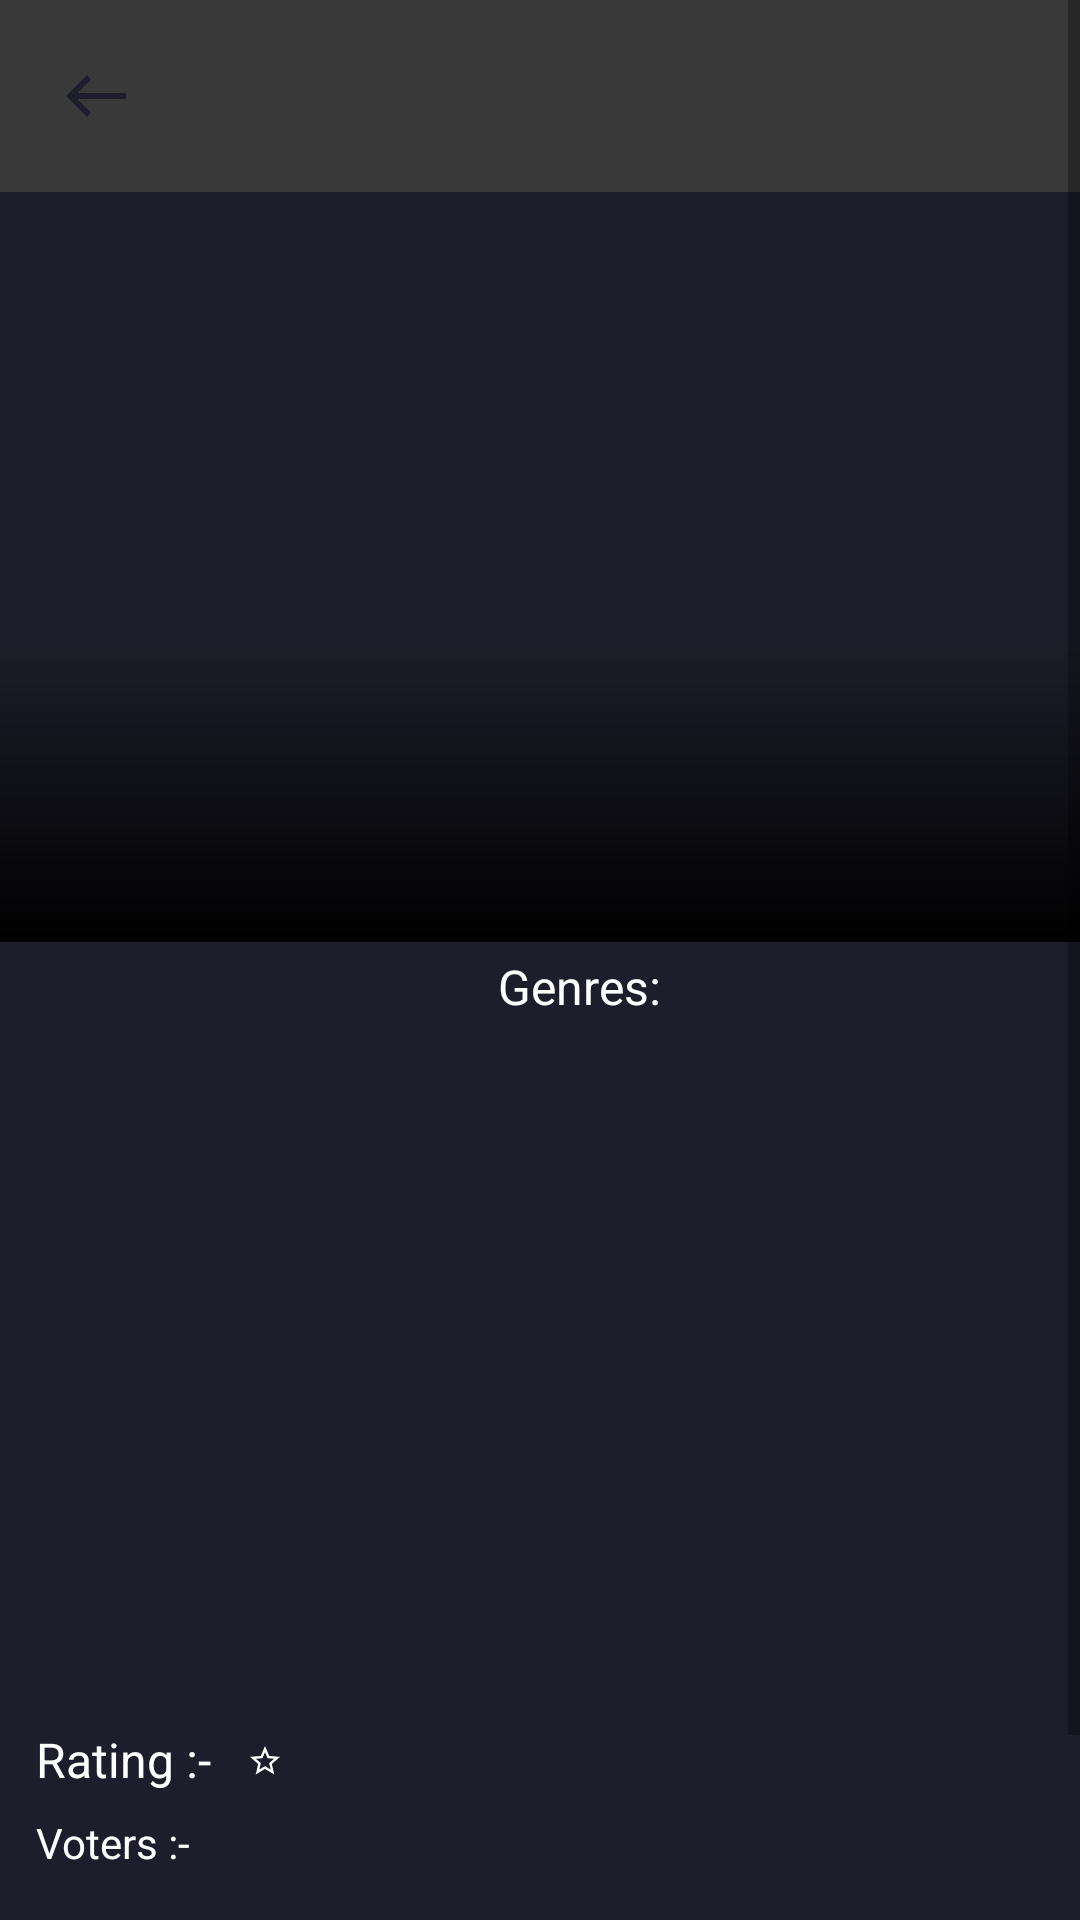

Where to tap for icons on this 1080px×1920px app screen, as point (x, y):
back: point (96, 96)
